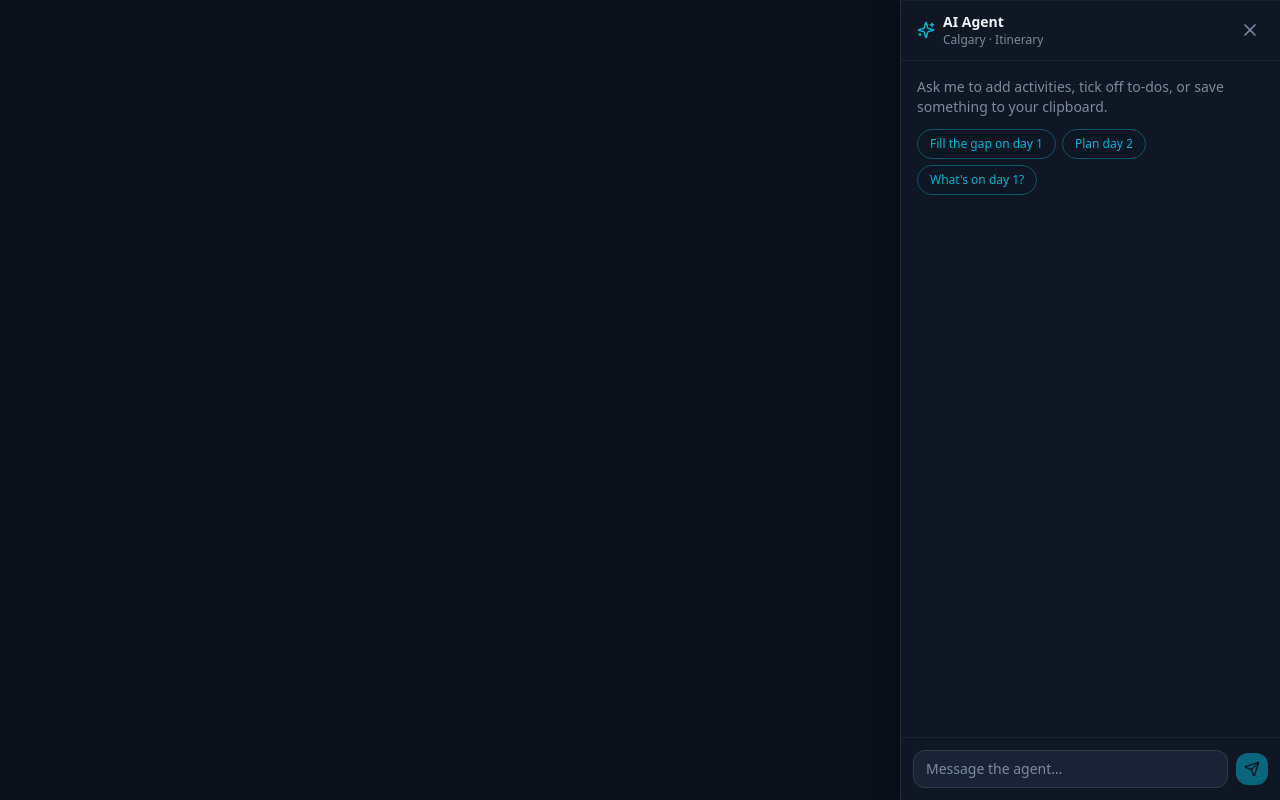
Test case: after a reply › keeps them on the newest reply only
Type "plan day 2" into the field with test id "agent-input". click: (1070, 769)
box: [913,750,1228,788]
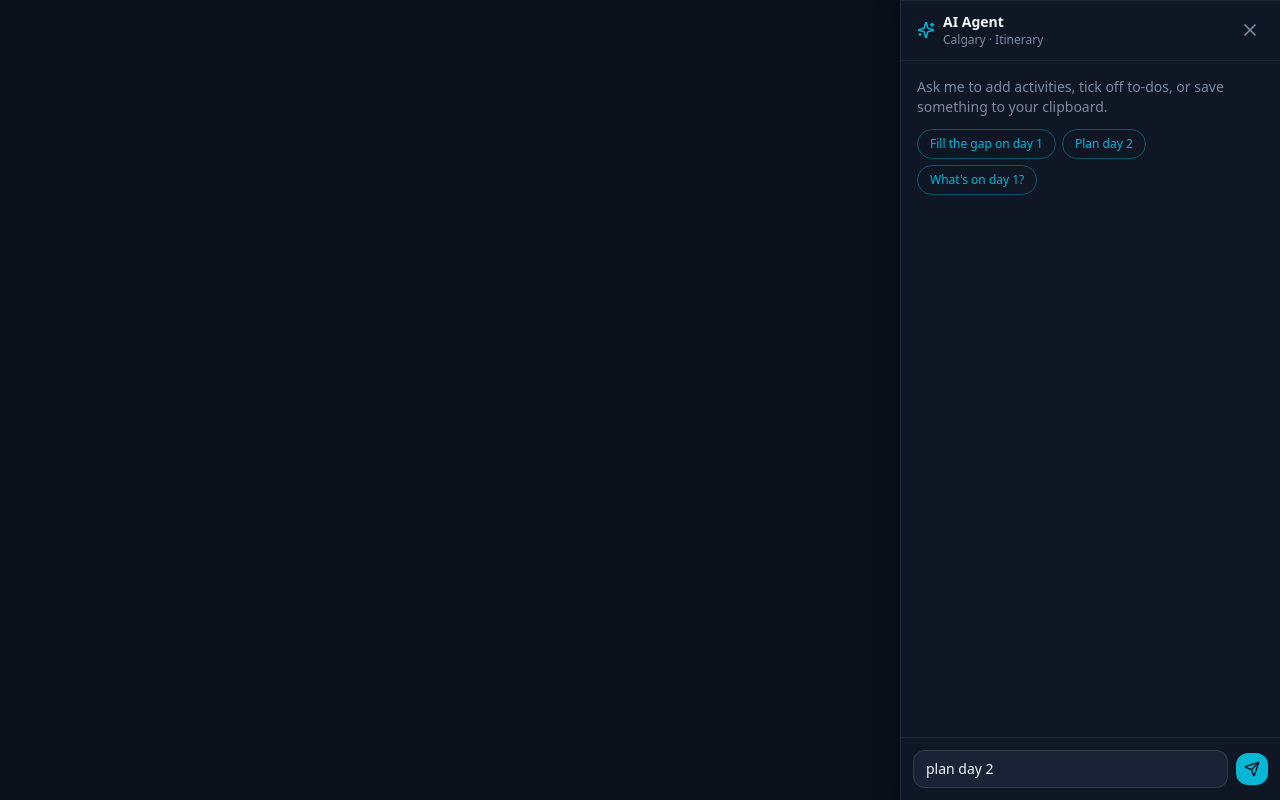
Click the button with test id "agent-send". click: (1252, 769)
box: [1236,753,1268,785]
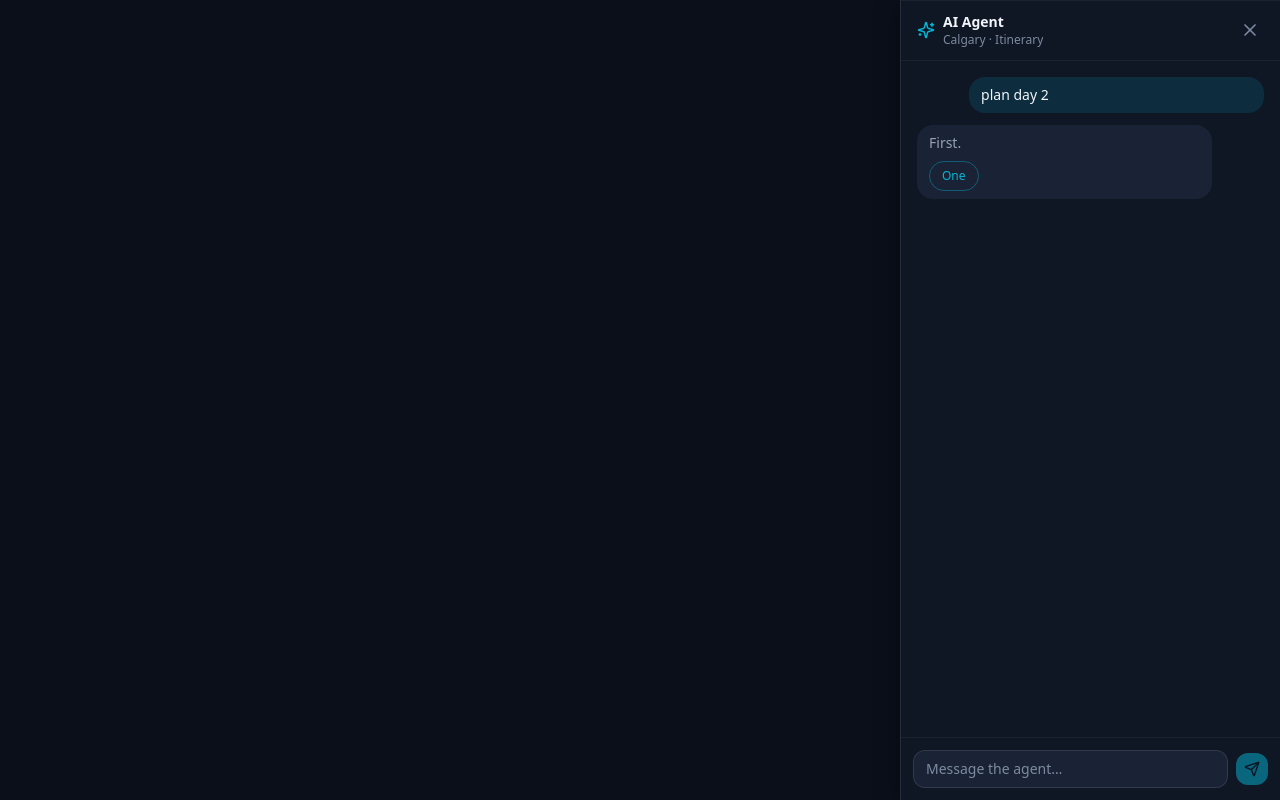
Expected: the button with test id "agent-suggestion-0" reads "One", [929,161,979,191]
Type "plan day 2" into the field with test id "agent-input". click: (1070, 769)
box: [913,750,1228,788]
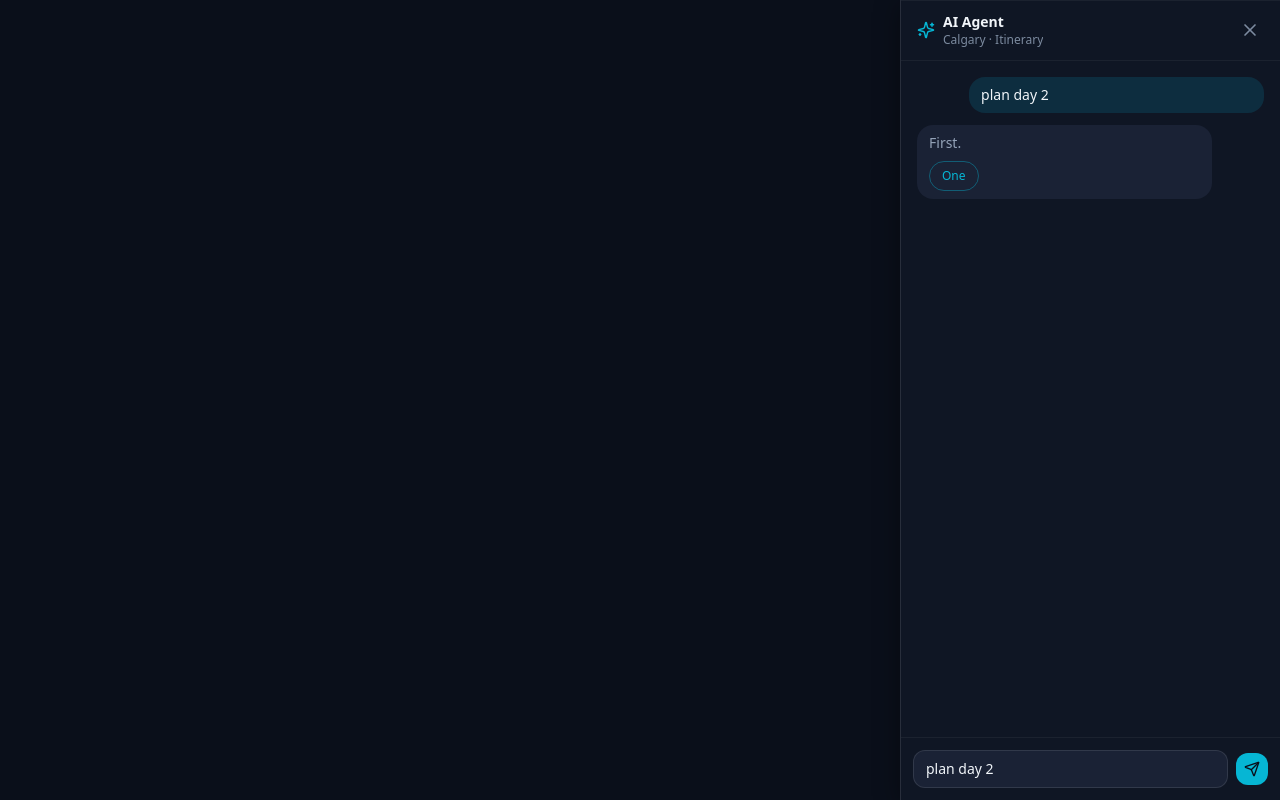
Click the button with test id "agent-send". click: (1252, 769)
box: [1236,753,1268,785]
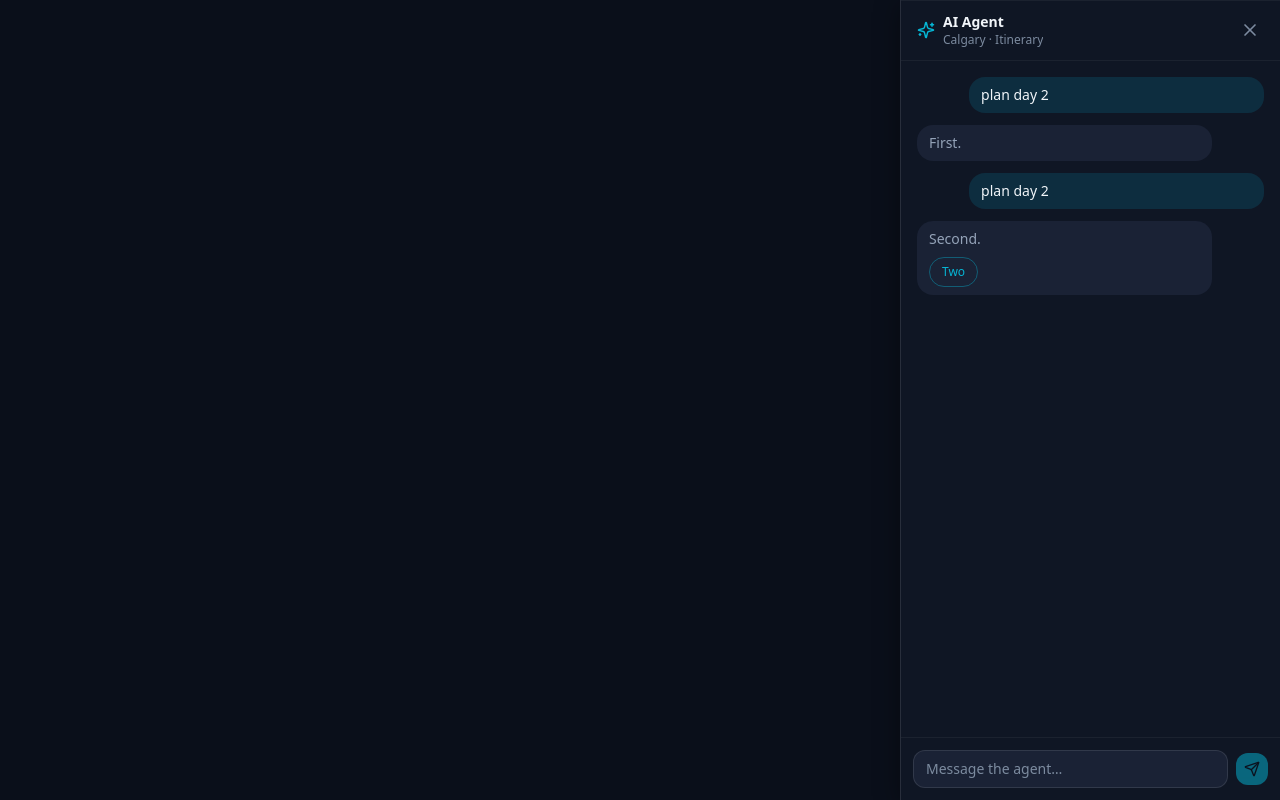
Expected: the number of elements with test id "agent-suggestions" is 1, [929,257,978,287]
Expected: the button with test id "agent-suggestion-0" reads "Two", [929,257,978,287]
